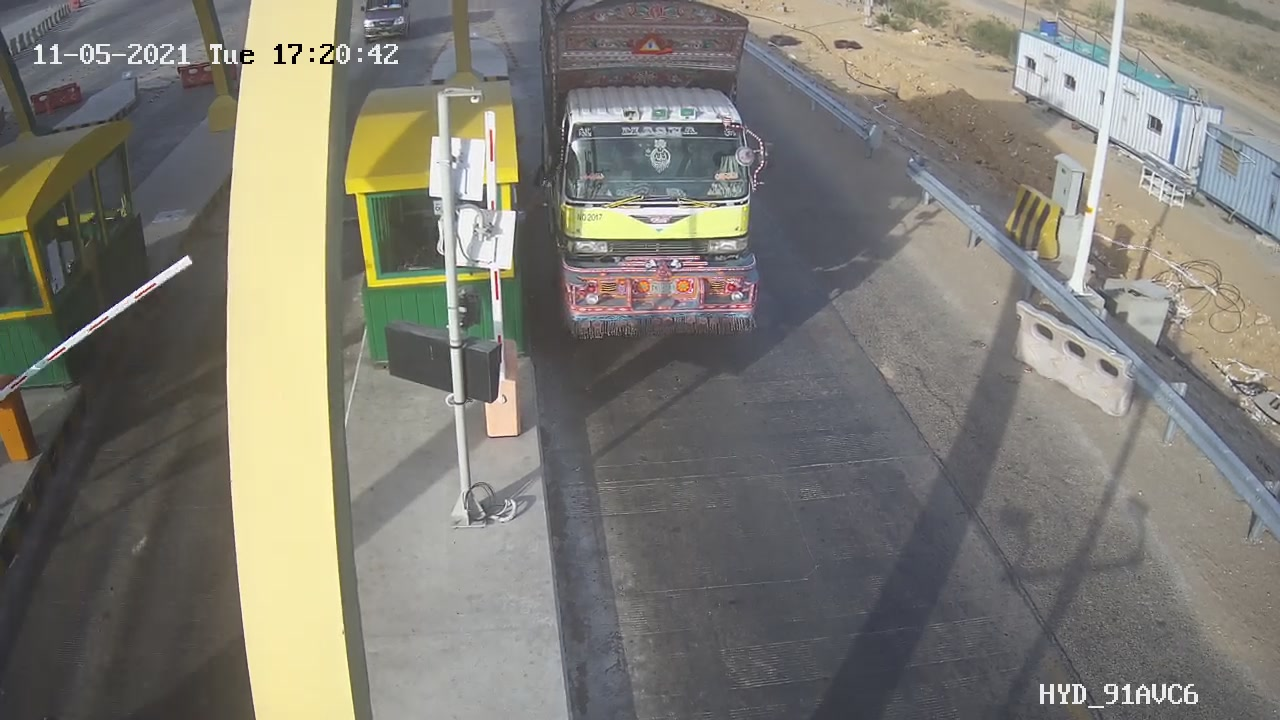F6: (524, 1, 792, 352)
